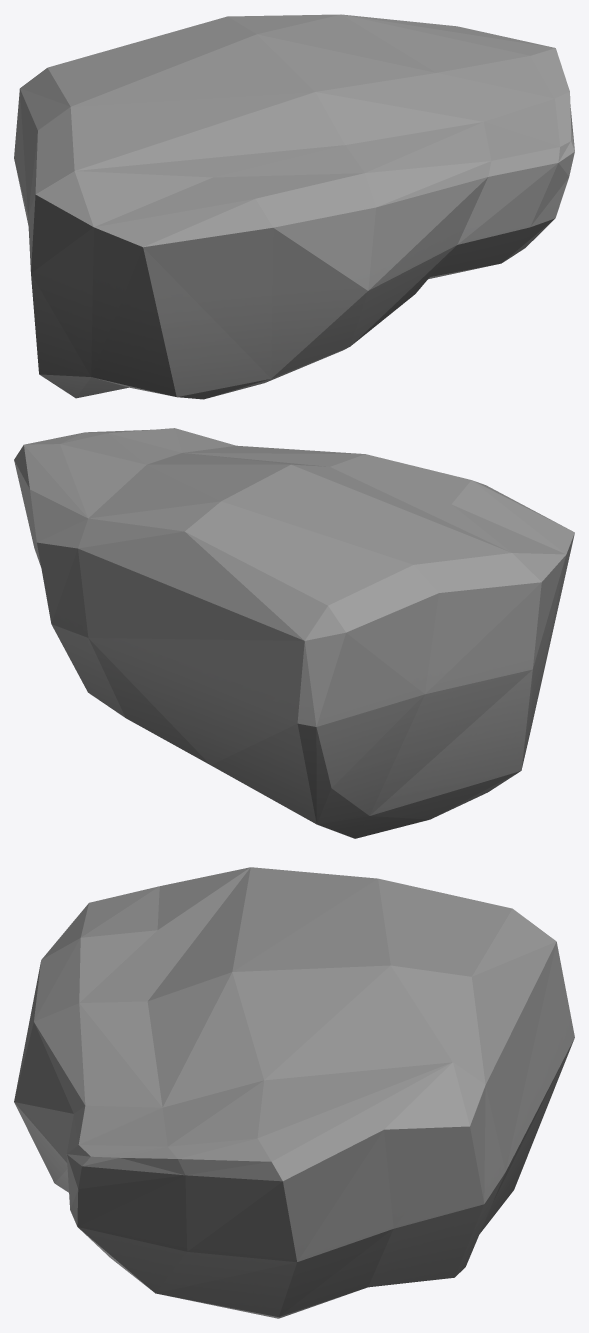
Rendered from Jungle_PlatformRock_Small_A.fbx.
3 views of the same model, one above another, from view 1: azimuth 30°, elevation 25°; view 2: azimuth 150°, elevation 25°; view 3: azimuth 270°, elevation 25° (orthographic). The views are drawn at different scales.
Visible parts, largest first — view 1: Jungle_PlatformRock_Small_A; view 2: Jungle_PlatformRock_Small_A; view 3: Jungle_PlatformRock_Small_A.
Boxes of the visible parts, x1,y1,x2,y2 form: Jungle_PlatformRock_Small_A: [14, 14, 574, 399]; Jungle_PlatformRock_Small_A: [14, 428, 574, 838]; Jungle_PlatformRock_Small_A: [14, 867, 574, 1318].
Bounding box in the file's own units: 6.62 × 3.51 × 4.98.
